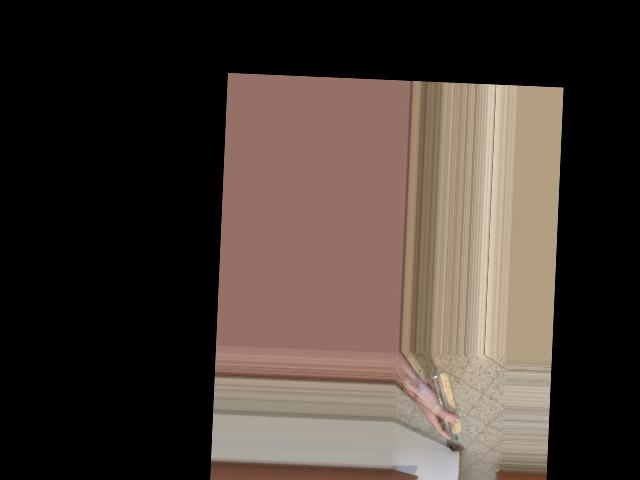cheese: (412, 377, 471, 444)
